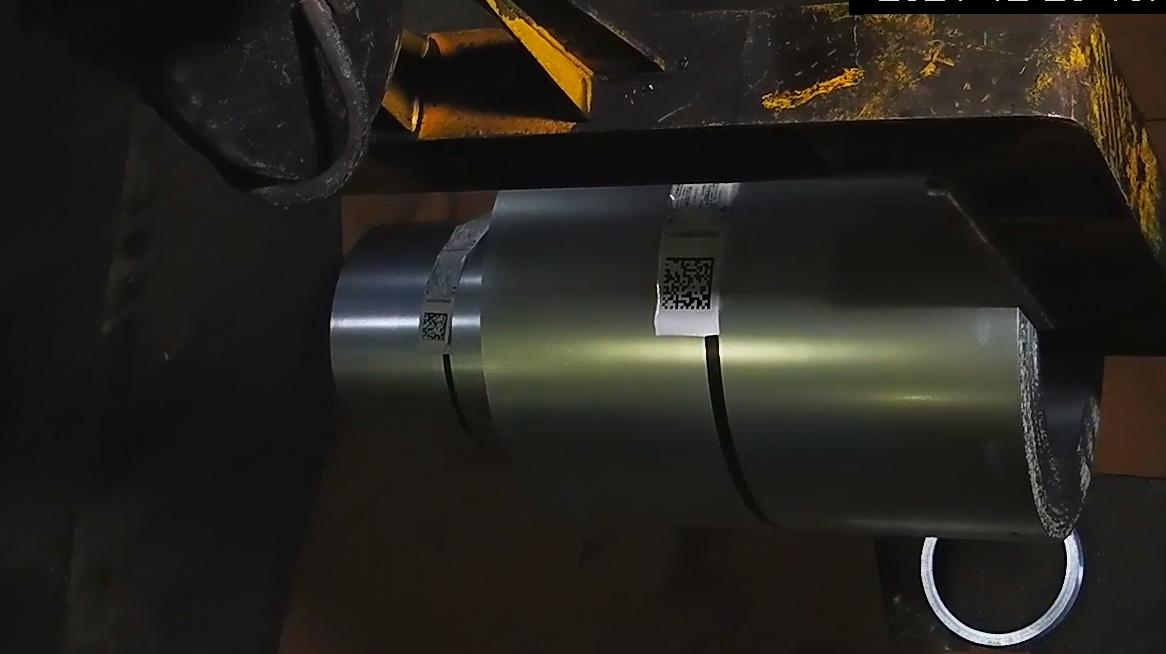data matrix: (658, 254, 720, 316), (420, 311, 451, 344)
